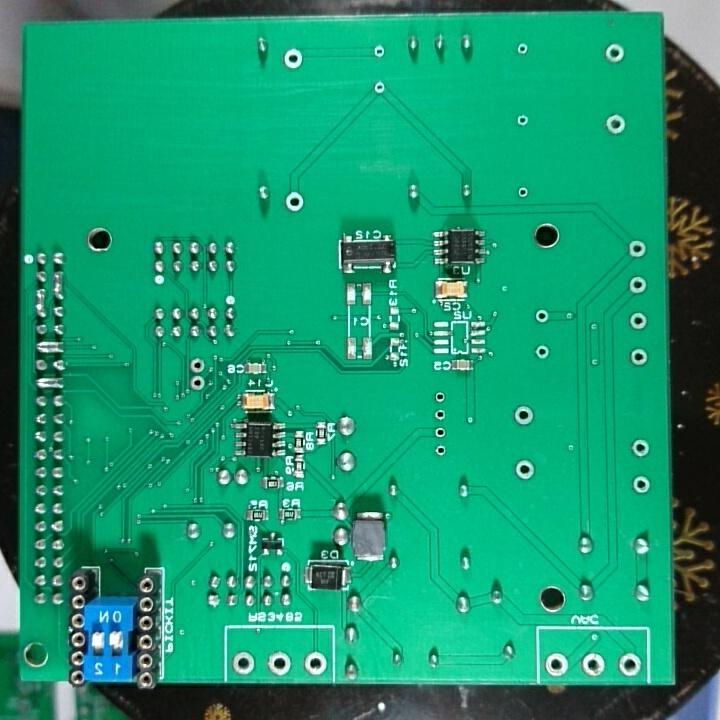F: (230, 648, 258, 676), (302, 648, 327, 678), (265, 648, 292, 675), (544, 652, 570, 680), (617, 651, 642, 678), (579, 650, 603, 678), (279, 46, 305, 71), (602, 41, 628, 66), (512, 403, 535, 429), (602, 113, 628, 135), (283, 189, 305, 214), (627, 273, 649, 298), (513, 458, 535, 483), (625, 237, 648, 260), (628, 309, 651, 332), (629, 437, 651, 460), (629, 472, 650, 496), (629, 346, 649, 369), (187, 373, 205, 394), (533, 306, 551, 326), (432, 440, 450, 459), (188, 355, 206, 374), (534, 342, 551, 362), (514, 182, 532, 200), (431, 387, 448, 406), (514, 39, 530, 59), (432, 423, 448, 443), (371, 43, 388, 61), (514, 111, 530, 129), (431, 407, 449, 423), (372, 78, 387, 97)
P: (31, 338, 67, 355), (32, 286, 50, 319), (50, 267, 66, 302), (31, 375, 67, 390)
